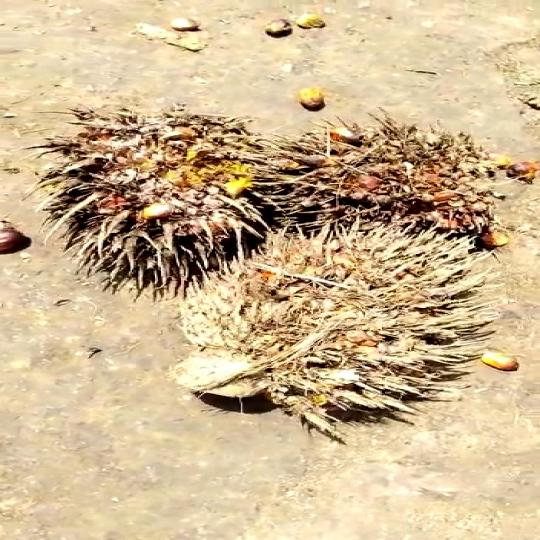terlalu masak: (151, 225, 479, 431), (35, 105, 281, 282), (236, 136, 520, 247)
